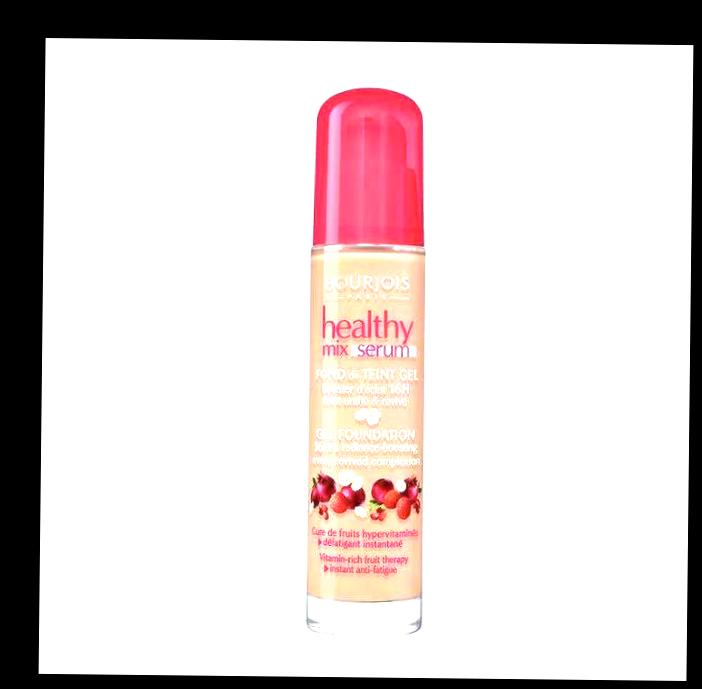cosmetic: (302, 87, 428, 631)
